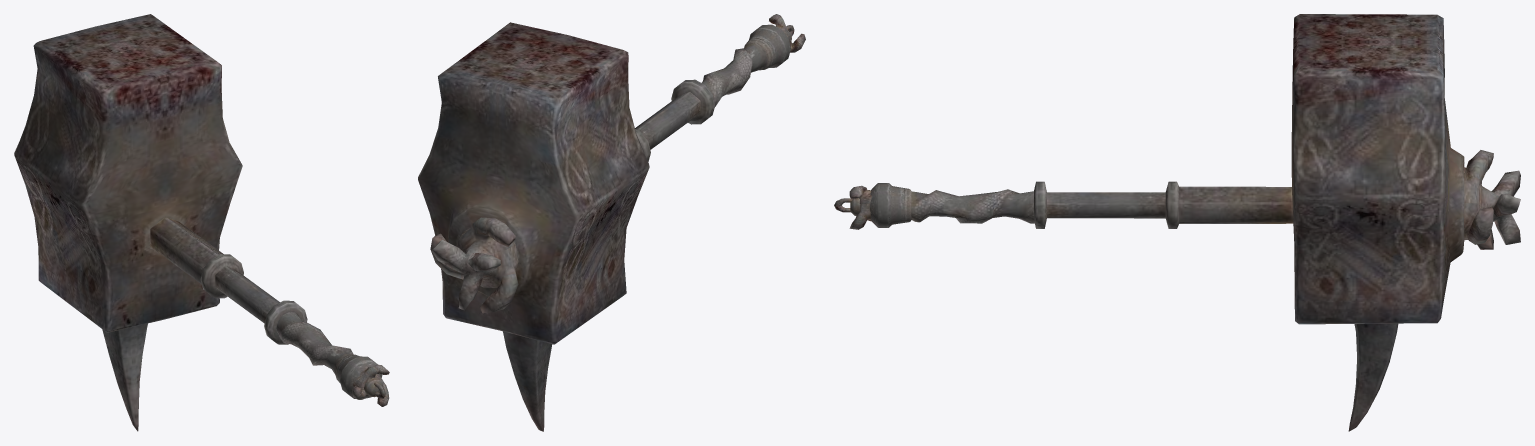
File: weapon-wp_a_0876.glb
3 views of the same model, side by side, from view 1: azimuth 30°, elevation 25°; view 2: azimuth 150°, elevation 25°; view 3: azimuth 270°, elevation 25° (orthographic). The views are drawn at different scales.
Parts seen in each view (by area): view 1: wp_a_0876_mesh; view 2: wp_a_0876_mesh; view 3: wp_a_0876_mesh.
Part boxes in pixels (x1=…): wp_a_0876_mesh: x1=14, y1=14, x2=389, y2=431; wp_a_0876_mesh: x1=418, y1=14, x2=805, y2=431; wp_a_0876_mesh: x1=834, y1=14, x2=1520, y2=431.
Bounding box in the file's own units: 0.3274 × 0.7215 × 1.15.
1 material, 1 textured.
